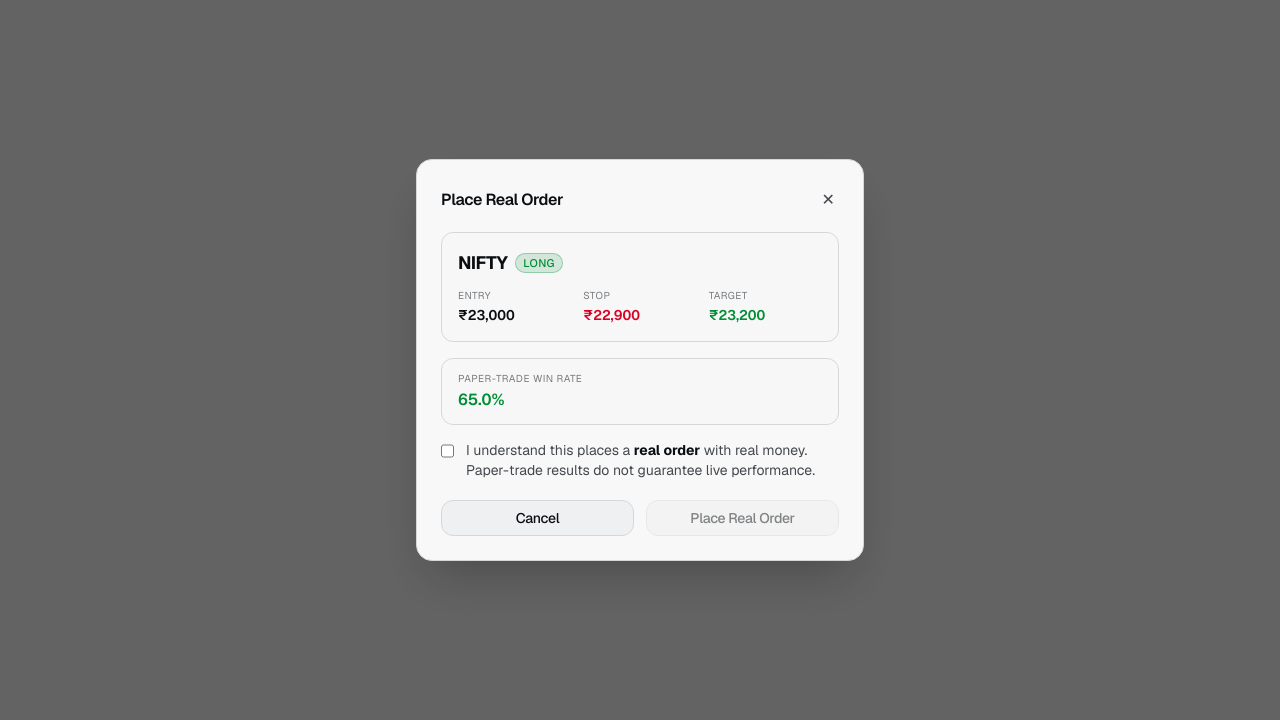
Test: LiveOrderModal › the Place Real Order button becomes enabled after checking the confirm checkbox
Expected: the button with test id "place-order-btn" is disabled, [646,500,839,536]
# Check the confirmation
Click the checkbox with test id "confirm-checkbox": x=448, y=451 [441,443,454,459]
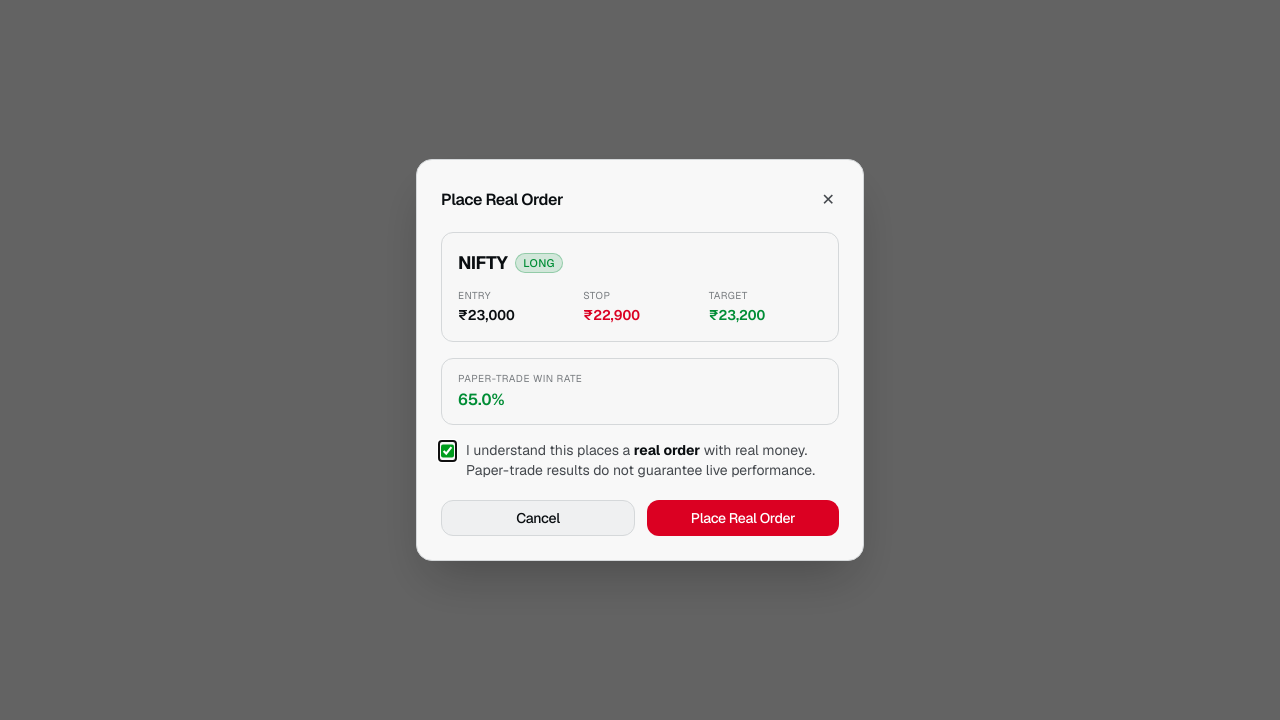
Expected: the button with test id "place-order-btn" is enabled, [647,500,839,536]
